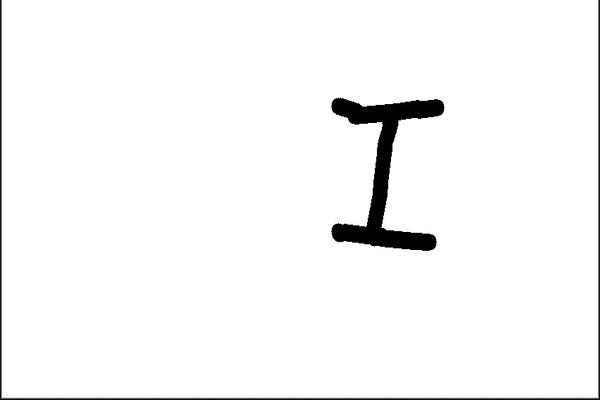i: (315, 91, 450, 255)
